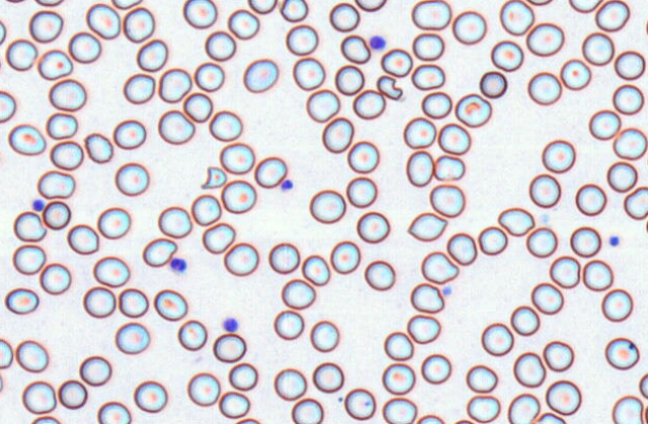PLT: (222, 317, 242, 334), (170, 257, 189, 273), (369, 35, 386, 50), (31, 198, 45, 214), (607, 234, 621, 248), (440, 285, 453, 299)
RBC: (525, 22, 564, 56), (545, 379, 581, 415), (157, 109, 194, 144), (420, 250, 458, 284), (85, 3, 120, 39), (157, 67, 192, 103), (309, 189, 346, 223), (454, 93, 491, 127), (48, 78, 86, 111), (499, 0, 534, 35), (243, 58, 278, 93), (429, 183, 465, 217), (407, 211, 447, 241), (411, 0, 451, 30), (223, 242, 258, 276), (21, 380, 56, 414), (305, 88, 340, 122), (221, 179, 256, 213), (114, 162, 149, 196), (321, 116, 353, 153), (8, 123, 45, 155), (452, 10, 486, 44), (541, 139, 575, 173), (527, 71, 561, 105), (528, 173, 561, 208), (612, 127, 647, 160), (604, 337, 639, 370), (122, 6, 154, 42), (513, 351, 545, 387), (594, 0, 630, 32), (93, 255, 129, 287), (37, 169, 75, 199), (381, 362, 415, 395), (187, 372, 220, 406), (115, 321, 149, 354), (133, 380, 167, 413), (153, 288, 187, 321), (292, 56, 325, 90), (581, 31, 614, 65), (28, 10, 63, 42), (157, 206, 192, 238), (219, 142, 254, 174), (497, 206, 534, 236), (273, 367, 306, 400), (254, 155, 287, 188), (15, 339, 48, 372), (403, 116, 436, 149), (97, 206, 130, 239), (356, 211, 390, 243), (481, 322, 513, 356), (82, 286, 116, 318), (208, 109, 242, 141), (601, 288, 633, 322), (37, 49, 72, 80), (405, 150, 434, 187), (202, 222, 235, 254), (344, 387, 376, 420), (13, 210, 46, 242), (68, 31, 101, 63), (5, 38, 37, 71), (347, 140, 379, 173), (437, 122, 470, 154), (490, 39, 523, 71), (575, 183, 607, 216), (410, 282, 444, 313), (281, 278, 315, 309), (142, 237, 177, 267), (268, 242, 300, 274), (531, 282, 563, 314), (39, 262, 71, 294), (559, 58, 591, 90), (612, 83, 644, 115), (136, 38, 167, 71), (446, 232, 477, 265), (549, 255, 580, 288), (66, 223, 99, 254), (352, 88, 385, 119), (285, 24, 318, 55), (588, 109, 621, 140), (406, 314, 440, 344), (212, 332, 246, 362), (330, 240, 360, 274), (112, 119, 146, 149), (49, 140, 83, 170), (312, 361, 344, 392), (204, 30, 236, 61), (123, 73, 155, 104), (542, 340, 574, 371), (79, 355, 111, 386), (227, 8, 259, 39), (525, 226, 557, 257), (582, 259, 613, 291), (569, 226, 601, 257), (507, 393, 540, 423), (12, 244, 45, 274), (466, 394, 500, 423), (182, 0, 217, 28), (420, 353, 451, 384), (273, 309, 304, 340), (364, 259, 395, 290), (606, 161, 637, 192), (346, 176, 377, 207), (191, 193, 221, 225), (380, 47, 412, 77), (4, 287, 39, 314), (334, 64, 364, 95), (177, 319, 207, 350), (614, 50, 645, 80), (465, 364, 497, 393), (310, 320, 339, 352), (412, 32, 444, 61), (382, 397, 417, 423), (57, 379, 87, 409), (477, 225, 507, 255), (194, 61, 224, 91), (118, 287, 148, 317), (329, 2, 359, 32), (301, 254, 330, 285), (183, 91, 212, 122), (84, 132, 113, 163), (218, 390, 250, 418), (611, 395, 643, 423), (411, 63, 444, 90), (383, 331, 413, 360), (510, 305, 539, 335), (340, 34, 370, 63), (421, 91, 452, 119), (623, 186, 648, 220), (41, 200, 70, 229), (433, 154, 464, 181), (46, 112, 77, 139), (291, 397, 323, 423), (228, 362, 257, 390), (479, 70, 507, 98), (97, 401, 131, 423), (279, 0, 308, 22), (0, 90, 16, 122), (568, 0, 601, 13), (247, 0, 277, 14), (533, 411, 566, 423), (0, 338, 13, 368), (354, 0, 386, 11), (111, 0, 142, 9), (415, 414, 444, 423), (30, 415, 61, 423), (639, 372, 647, 399), (34, 0, 64, 7), (234, 417, 260, 423), (0, 20, 6, 44), (527, 0, 553, 5), (642, 403, 648, 423), (453, 418, 474, 423), (645, 149, 648, 175), (645, 213, 648, 237), (645, 14, 648, 37), (4, 0, 26, 3), (0, 373, 3, 392)
Schistocyte: (200, 165, 228, 190), (376, 75, 404, 100)
